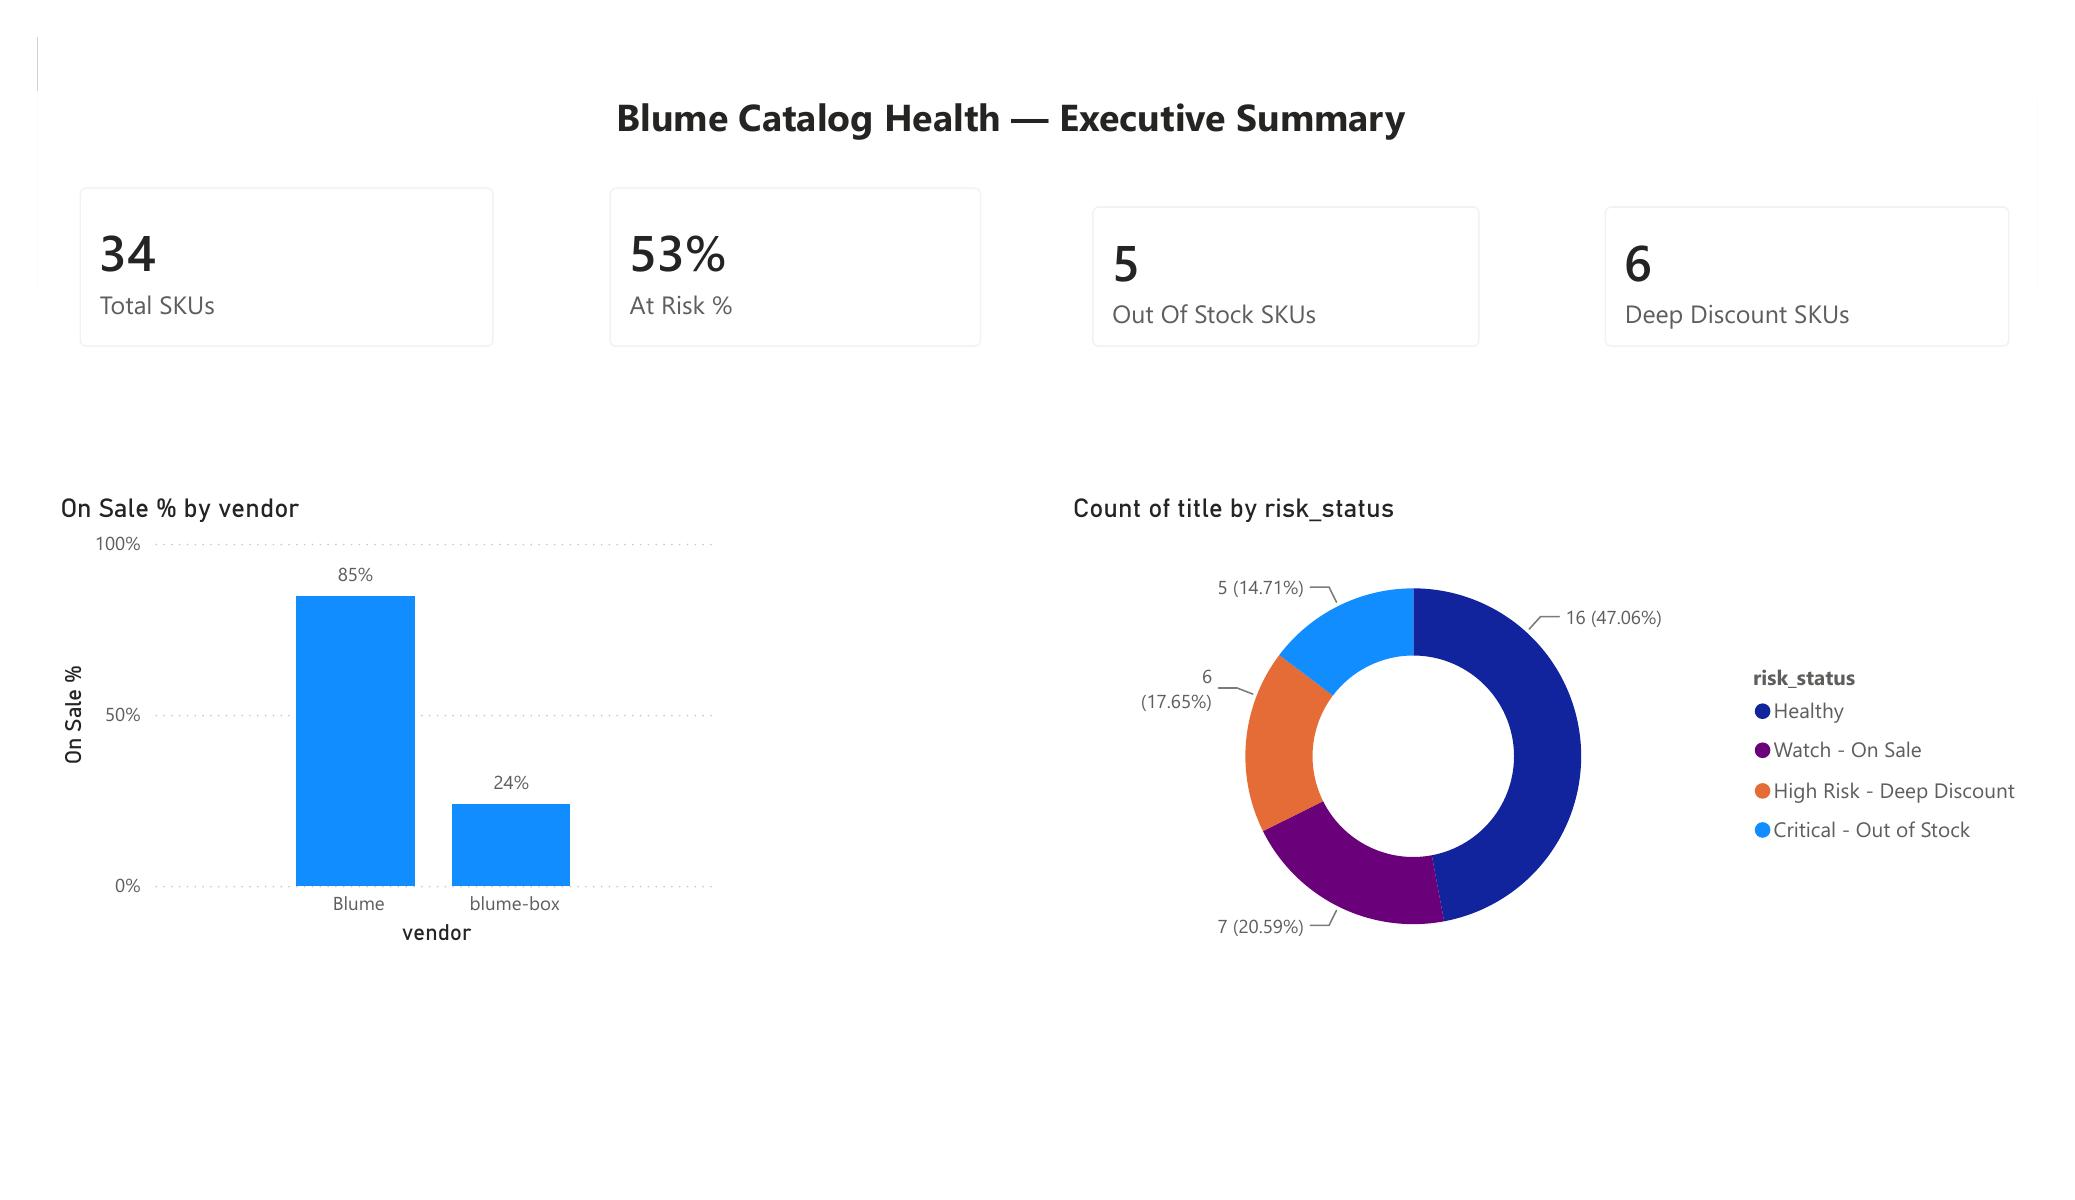

Layout of this report page (visuals, bound fields, positions):
{"tool":"powerbi","page":{"name":"Overview","canvas":[1280,720],"ordinal":0},"visuals":[{"type":"cardVisual","fields":{"Data":["query 8 blume.Total SKUs"]},"box":[10.1,79,299,136.1],"z":0},{"type":"cardVisual","fields":{"Data":["query 8 blume.Critical OOS"]},"box":[658.5,90.7,282.2,124.3],"z":1000},{"type":"cardVisual","fields":{"Data":["query 8 blume.High Risk Discount"]},"box":[986,90.7,294,124.3],"z":2000},{"type":"cardVisual","fields":{"Data":["query 8 blume.At Risk %"]},"box":[348.8,79,272.1,136.1],"z":3000},{"type":"clusteredColumnChart","fields":{"Category":["query 8 blume.vendor"],"Y":["query 8 blume.On Sale %"]},"box":[10.1,290.6,430,295.6],"z":4000},{"type":"donutChart","fields":{"Category":["query 8 blume.risk_status"],"Y":["CountNonNull(query 8 blume.title)"]},"box":[620,290,621.7,320],"z":5000},{"type":"textbox","box":[188.1,28.6,870.1,62.2],"z":6000},{"type":"textbox","box":[440,425,180,160],"z":6001}]}

Visuals, with their boxes on the page's 1280x720 design canvas (x1, y1, x2, y2). These are canvas units, not pixel positions in the 2075x1200 screenshot, which may show the page scaled, cropped or inside an application window:
cardVisual - query 8 blume.Total SKUs: [10, 79, 309, 215]
cardVisual - query 8 blume.Critical OOS: [658, 91, 941, 215]
cardVisual - query 8 blume.High Risk Discount: [986, 91, 1280, 215]
cardVisual - query 8 blume.At Risk %: [349, 79, 621, 215]
clusteredColumnChart - query 8 blume.vendor x query 8 blume.On Sale %: [10, 291, 440, 586]
donutChart - query 8 blume.risk_status x CountNonNull(query 8 blume.title): [620, 290, 1242, 610]
textbox: [188, 29, 1058, 91]
textbox: [440, 425, 620, 585]
